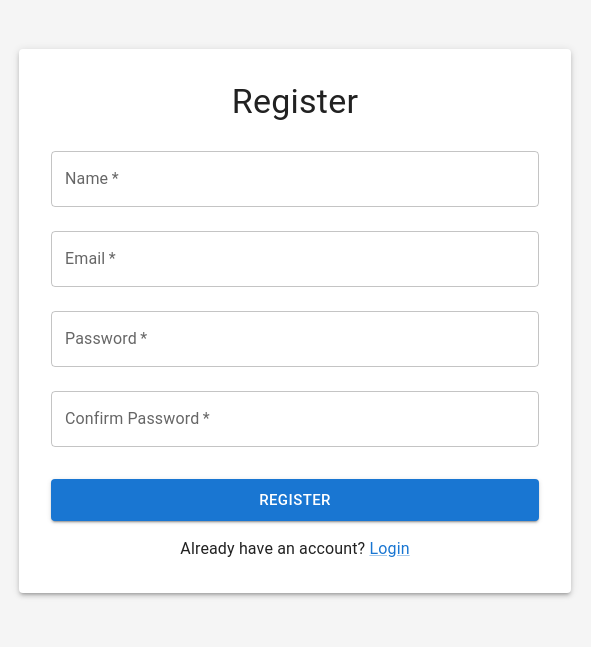
Scenario: RegisterPage › Registration Flow › should show error when email already exists
Type "John Doe" into the field labelled "Name *".
click(295, 179); type("John Doe")  # box x1=51 y1=151 x2=539 y2=207
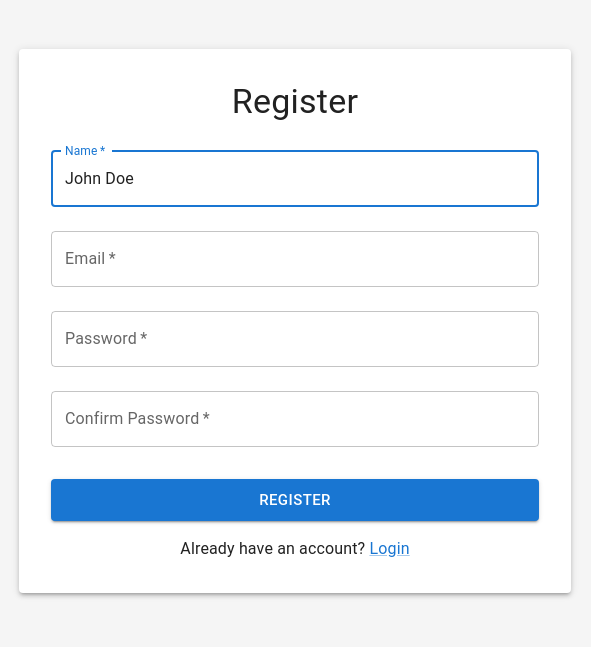
Type "test@example.com" into the field labelled "Email *".
click(295, 259); type("test@example.com")  # box x1=51 y1=231 x2=539 y2=287
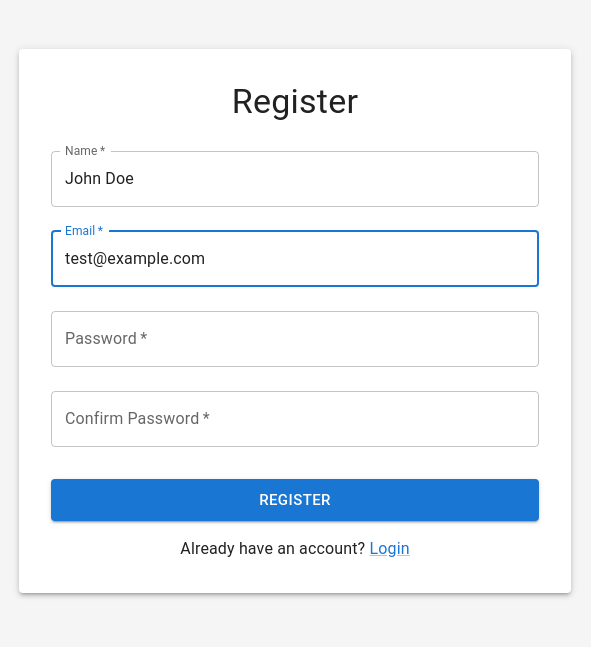
Type "password123" into the password field labelled "Password *".
click(295, 339); type("password123")  # box x1=51 y1=311 x2=539 y2=367
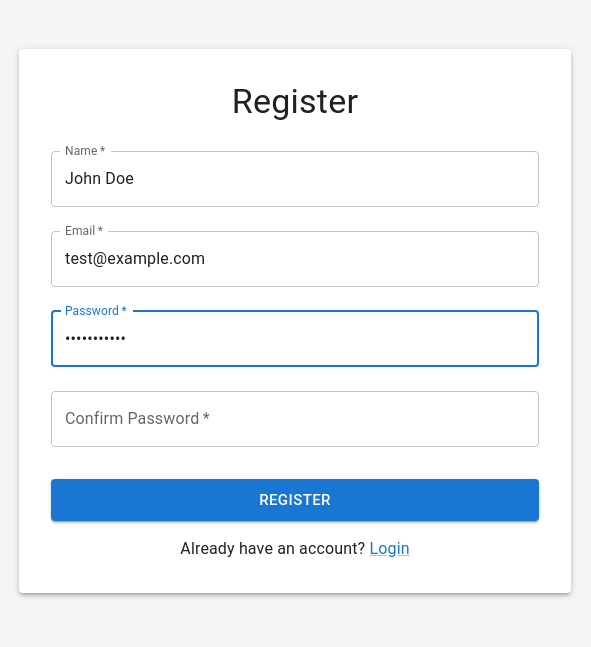
Type "password123" into the password field labelled "Confirm Password *".
click(295, 419); type("password123")  # box x1=51 y1=391 x2=539 y2=447
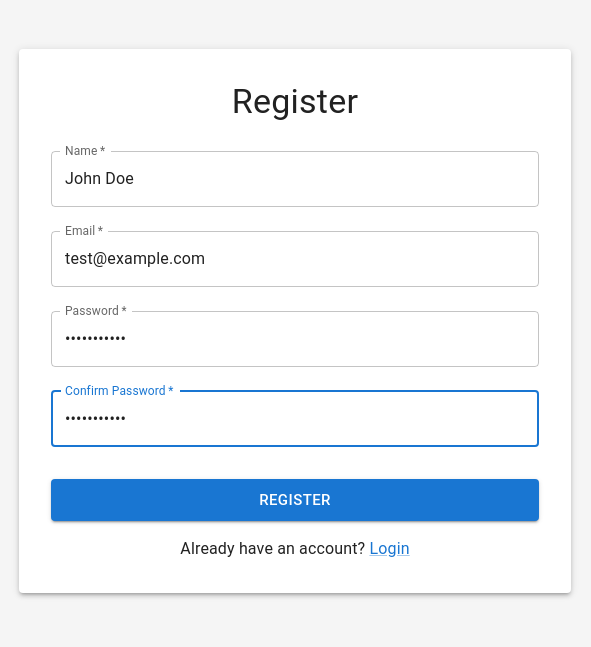
Click the button "Register".
click(295, 500)  # box x1=51 y1=479 x2=539 y2=521
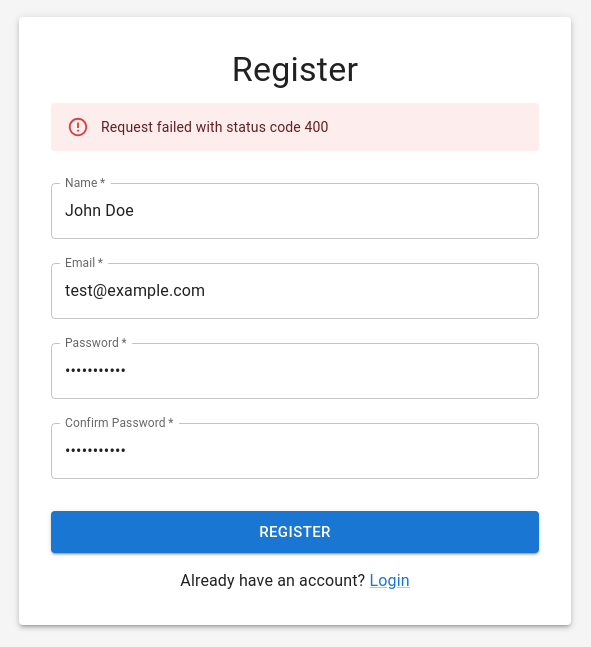
Expected: the message is shown, x1=51 y1=103 x2=539 y2=151
